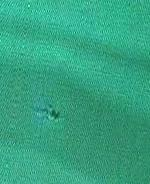knot: (40, 105, 63, 124)
